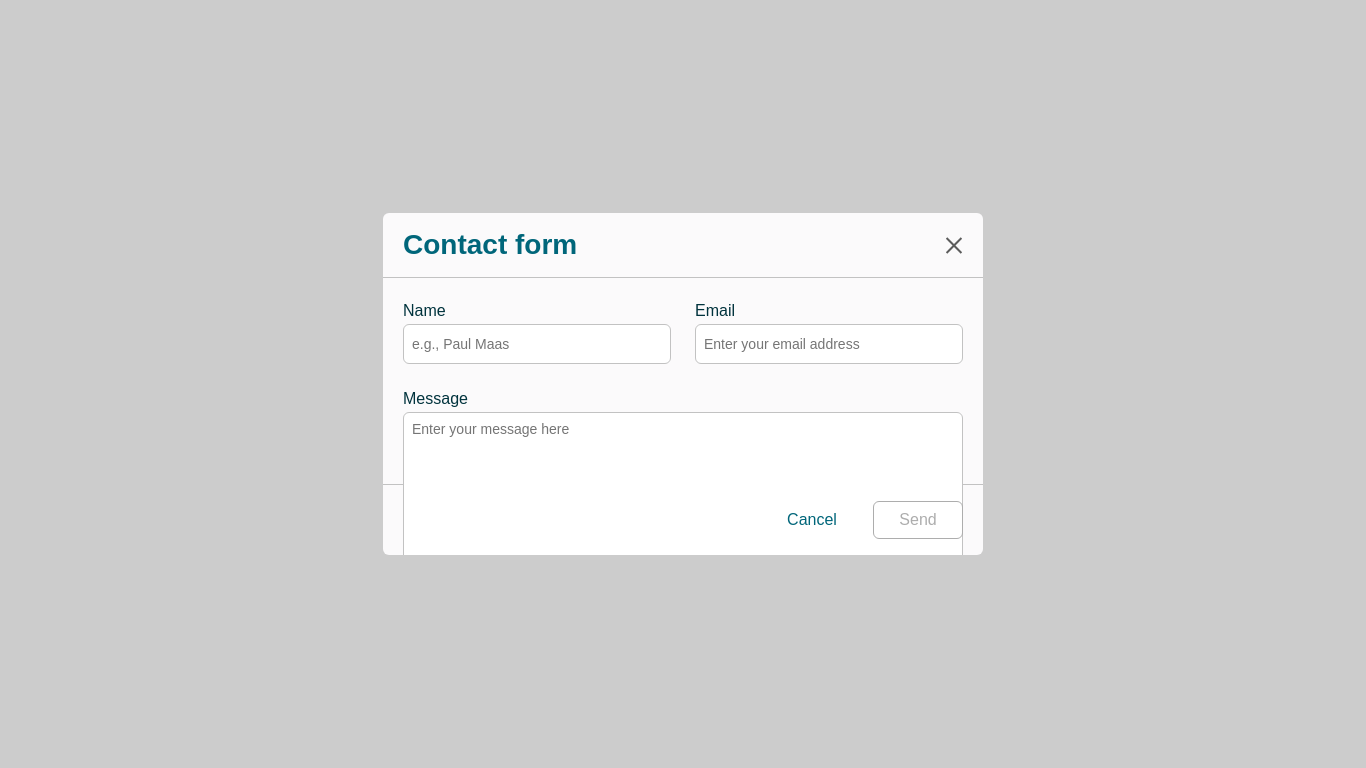
ContactModal › form fields › should display pattern error for invalid email
This screenshot has width=1366, height=768.
Type "invalid-email" into the field with placeholder "Enter your email address".
click(829, 344); type("invalid-email")  # box x1=695 y1=324 x2=963 y2=364
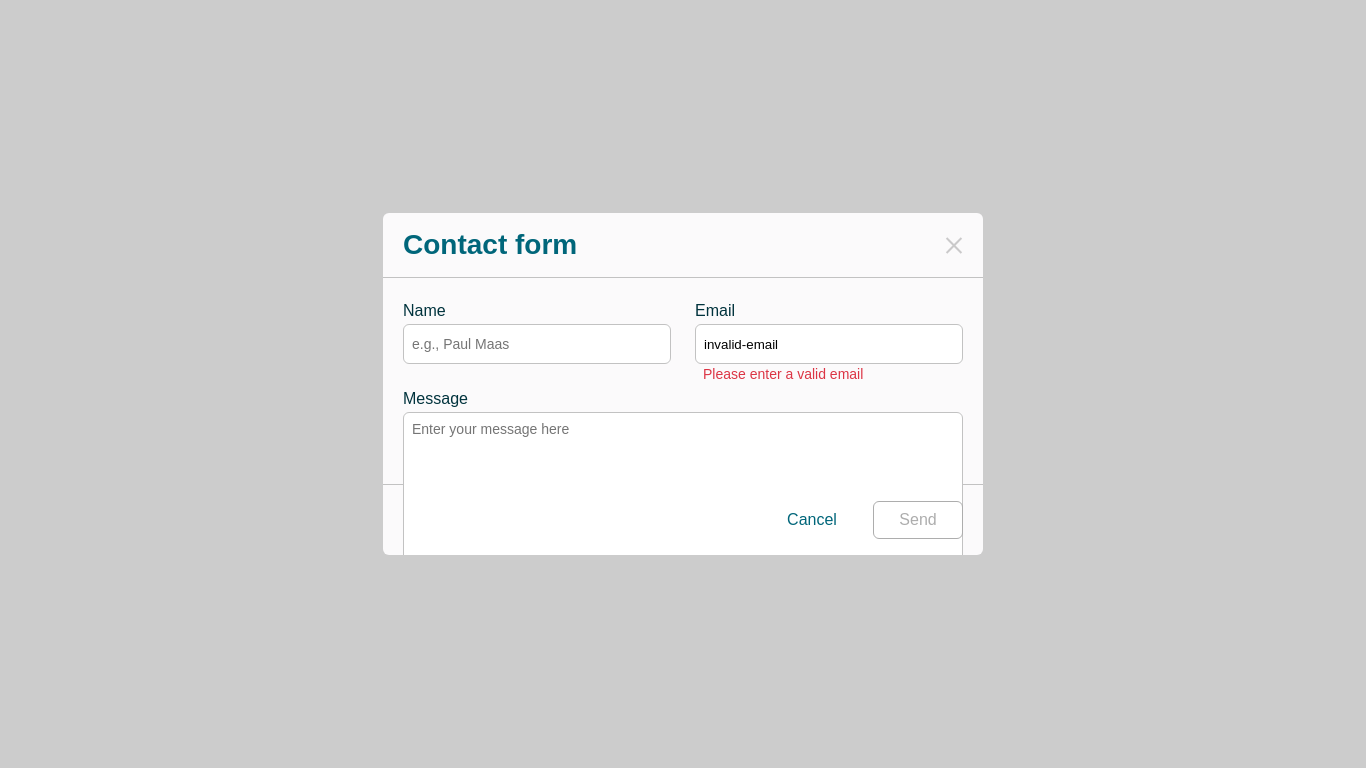
expect the text "Please enter a valid email" is shown: met, box x1=703 y1=366 x2=863 y2=382
